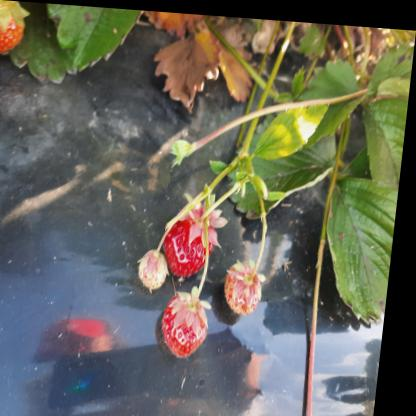ripe: (165, 211, 219, 275), (169, 289, 215, 352), (0, 0, 25, 55)
unripe: (228, 258, 271, 312), (142, 251, 180, 289)
